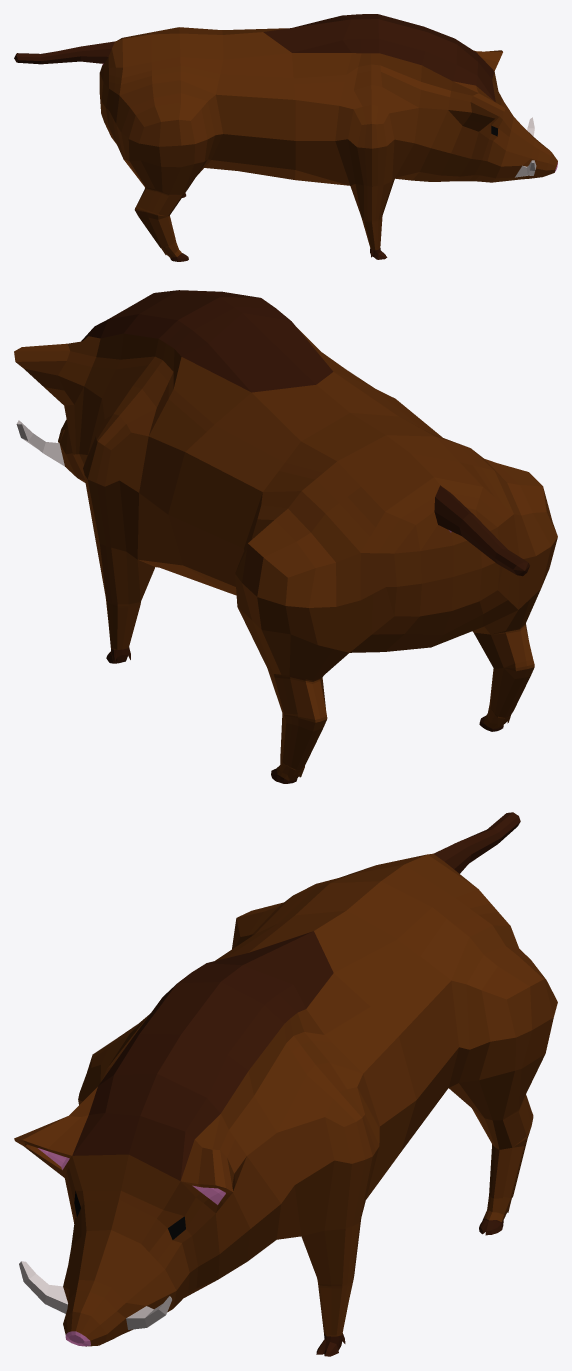
3 renders of one model, top to bottom at view 1: azimuth 30°, elevation 25°; view 2: azimuth 150°, elevation 25°; view 3: azimuth 270°, elevation 25°, orthographic. The views are drawn at different scales.
Visible parts, largest first — view 1: jabali_Material #54_0, jabali_Material #60_0, jabali_Material #55_0; view 2: jabali_Material #54_0, jabali_Material #60_0, jabali_Material #55_0; view 3: jabali_Material #54_0, jabali_Material #60_0, jabali_Material #55_0, jabali_Material #57_0.
Boxes of the visible parts, x1,y1,x2,y2 form: jabali_Material #54_0: (99, 27, 557, 257); jabali_Material #60_0: (14, 14, 495, 261); jabali_Material #55_0: (515, 117, 536, 177); jabali_Material #54_0: (14, 328, 557, 780); jabali_Material #60_0: (81, 290, 529, 783); jabali_Material #55_0: (16, 420, 64, 466); jabali_Material #54_0: (14, 853, 557, 1346); jabali_Material #60_0: (72, 812, 520, 1356); jabali_Material #55_0: (19, 1261, 171, 1329); jabali_Material #57_0: (38, 1148, 225, 1346).
Size of the model in its own units: 3.75 by 1.79 by 2.55.
